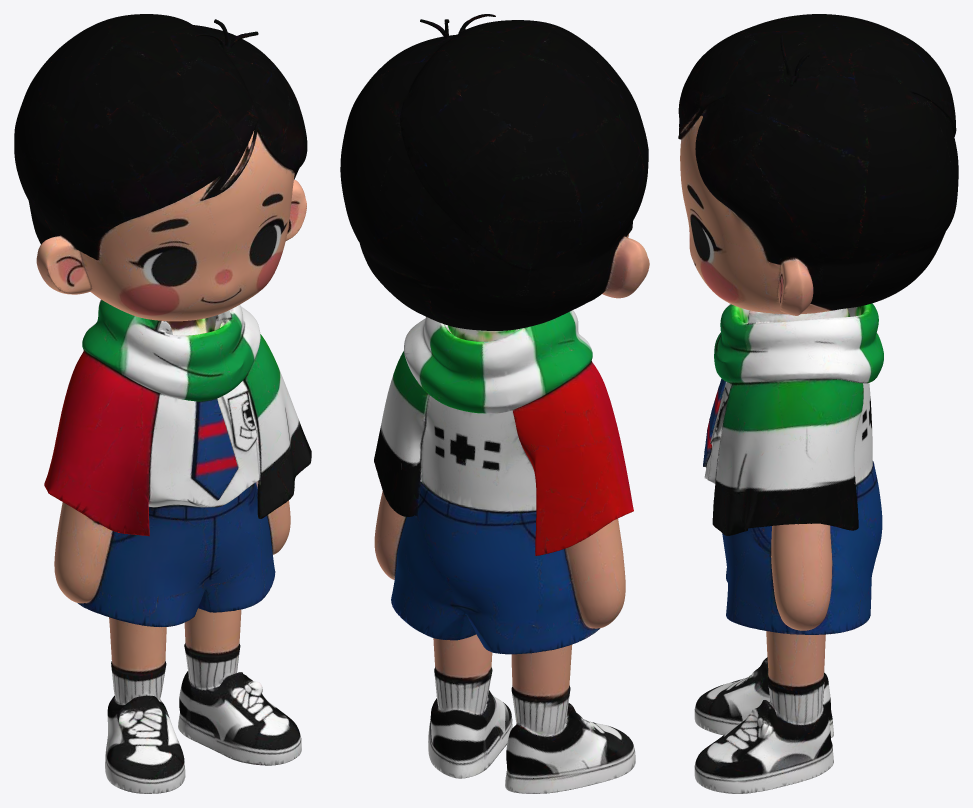
The model's file is carlo-uae-scarf.glb.
The picture shows the model from 3 angles, left to right: view 1: azimuth 30°, elevation 25°; view 2: azimuth 150°, elevation 25°; view 3: azimuth 270°, elevation 25°; orthographic projection. The views are drawn at different scales.
Size of the model in its own units: 0.7393 by 1.9 by 0.6692.
1 material, 1 textured.
